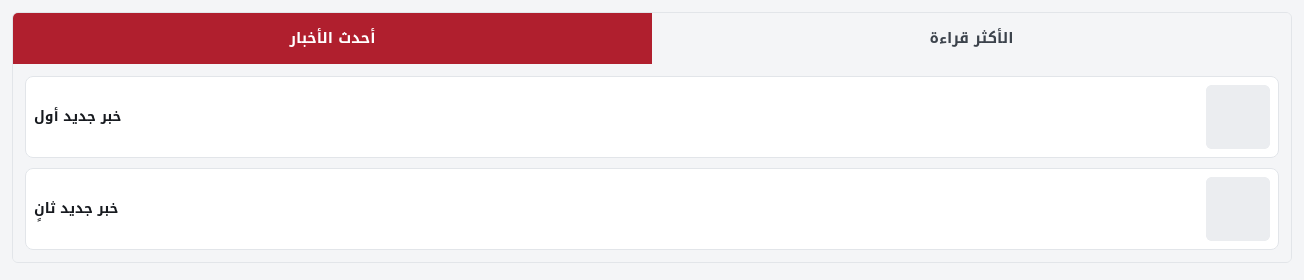
Test case: LatestNewsCard › swaps to the most-read list — and only the list — on the other tab
Click the button "الأكثر قراءة". click: (972, 38)
box: [652,13,1291,64]
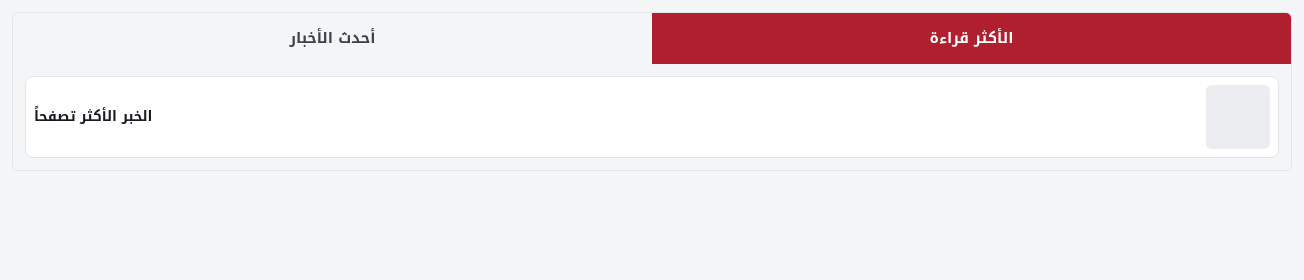
Expected: the text "الخبر الأكثر تصفحاً" is shown, [34,103,152,130]
Expected: the link "خبر جديد أول" is gone
